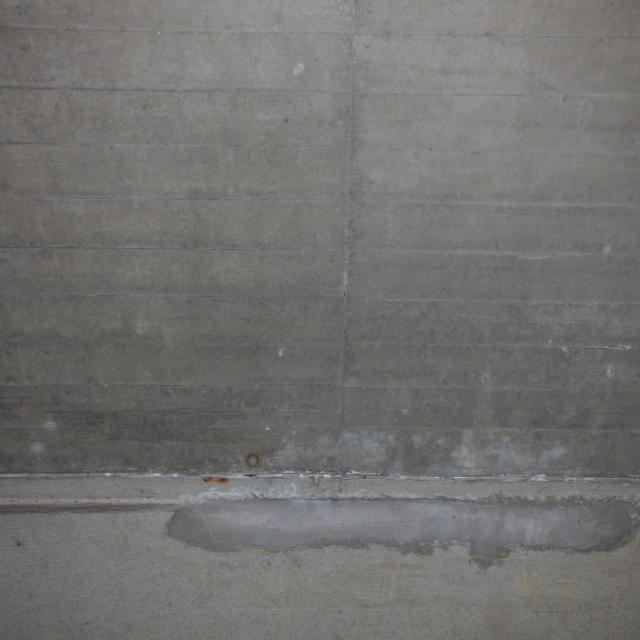corrosion: (202, 446, 268, 493)
